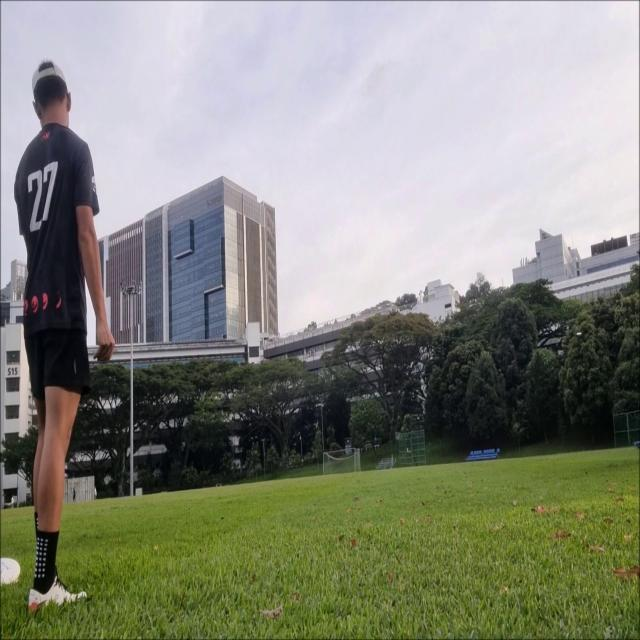disc: (576, 332, 582, 336)
